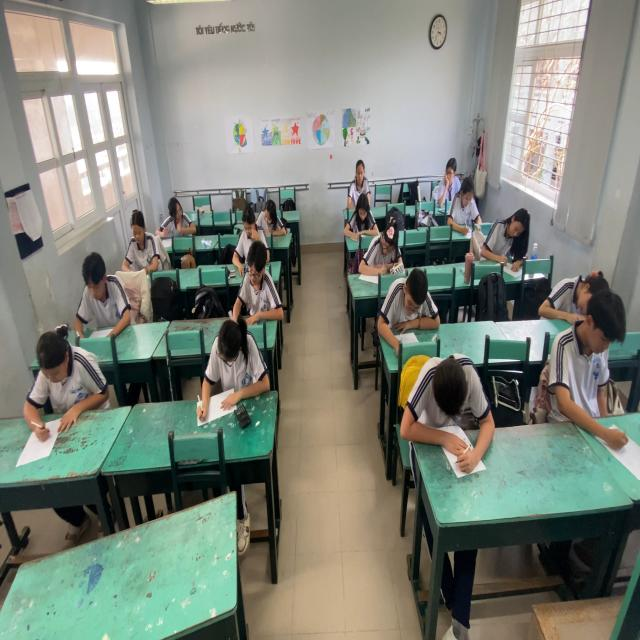cheating: (160, 191, 199, 239)
not_cheating: (26, 319, 115, 446), (545, 295, 632, 398), (195, 312, 277, 409), (407, 358, 481, 427), (65, 257, 131, 329), (240, 236, 284, 319), (384, 274, 436, 336), (543, 260, 593, 322), (360, 208, 402, 280), (488, 201, 538, 253), (121, 211, 158, 267), (448, 171, 487, 222), (432, 153, 466, 202), (232, 197, 263, 246), (341, 191, 376, 232), (257, 201, 292, 239), (348, 156, 370, 202)
